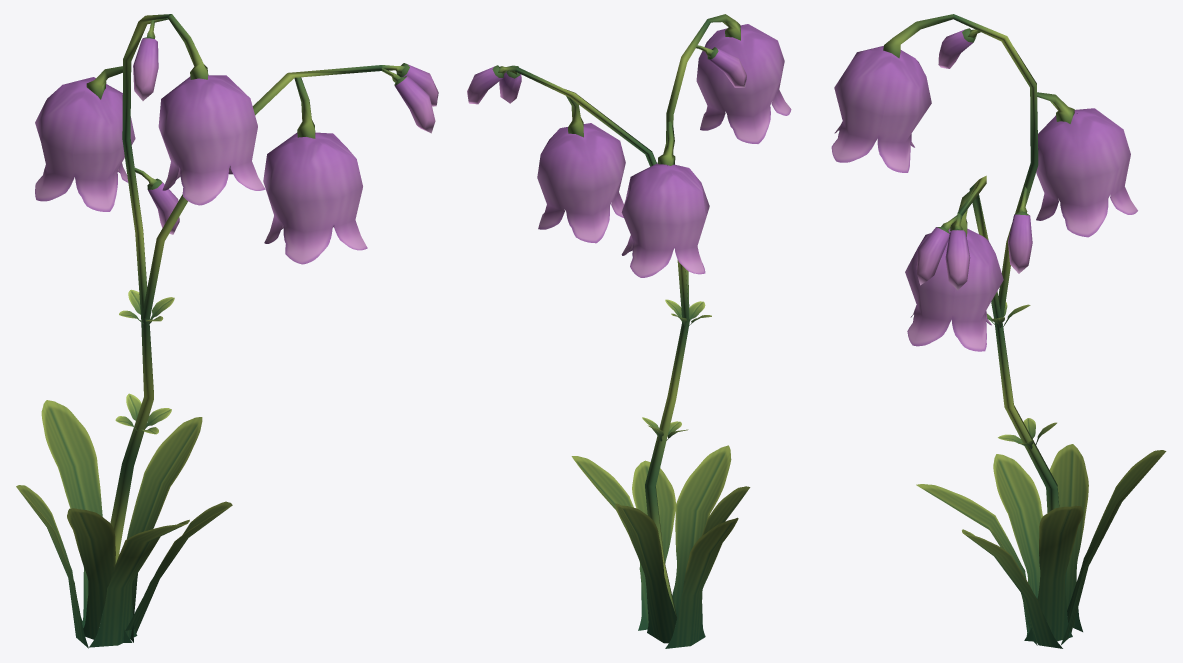
Rendered from Flower_02.FBX.
3 views of the same model, side by side, from view 1: azimuth 30°, elevation 25°; view 2: azimuth 150°, elevation 25°; view 3: azimuth 270°, elevation 25° (orthographic). The views are drawn at different scales.
Parts seen in each view (by area): view 1: Cylinder002; view 2: Cylinder002; view 3: Cylinder002.
Boxes of the visible parts, bbox=[...] form: Cylinder002: bbox=[16, 14, 438, 648]; Cylinder002: bbox=[467, 14, 791, 648]; Cylinder002: bbox=[831, 14, 1166, 648].
Size of the model in its own units: 82.36 by 140 by 70.51.
